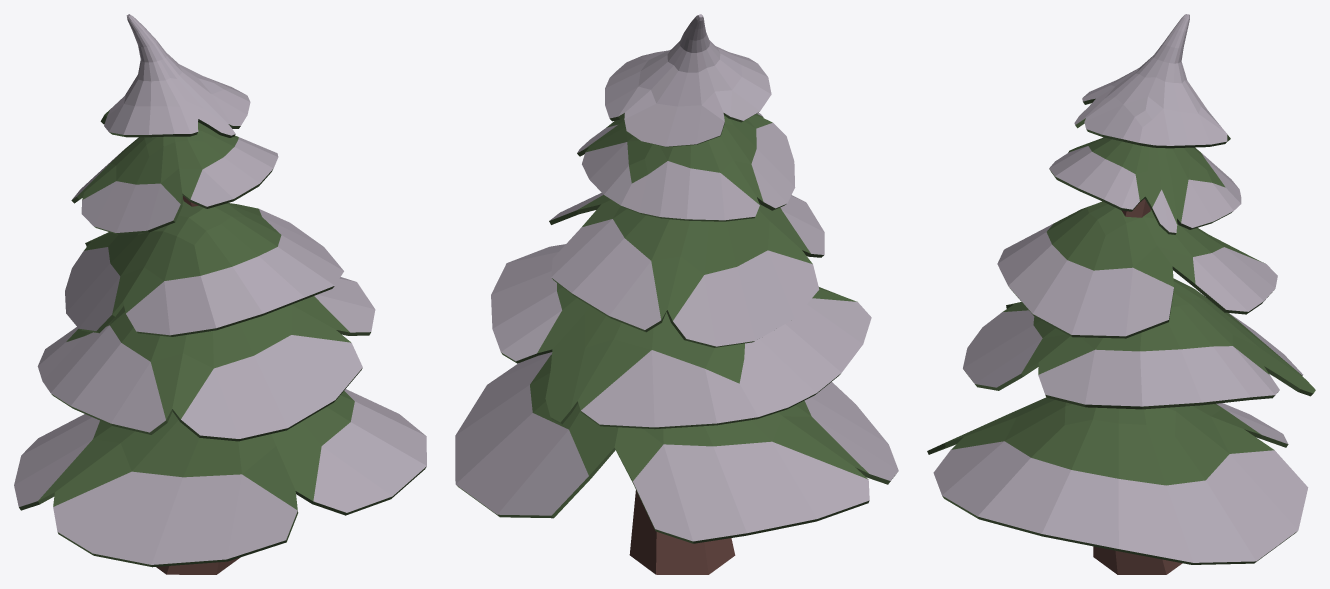
3 renders of one model, left to right at view 1: azimuth 30°, elevation 25°; view 2: azimuth 150°, elevation 25°; view 3: azimuth 270°, elevation 25°, orthographic. The views are drawn at different scales.
Parts seen in each view (by area): view 1: PineTree_Snow_1; view 2: PineTree_Snow_1; view 3: PineTree_Snow_1.
Boxes of the visible parts, box(x1,y1,x2,y2) form: PineTree_Snow_1: box(14, 14, 426, 574); PineTree_Snow_1: box(455, 14, 898, 574); PineTree_Snow_1: box(927, 14, 1315, 574).
Bounding box in the file's own units: 1.96 × 2.7 × 1.82.
